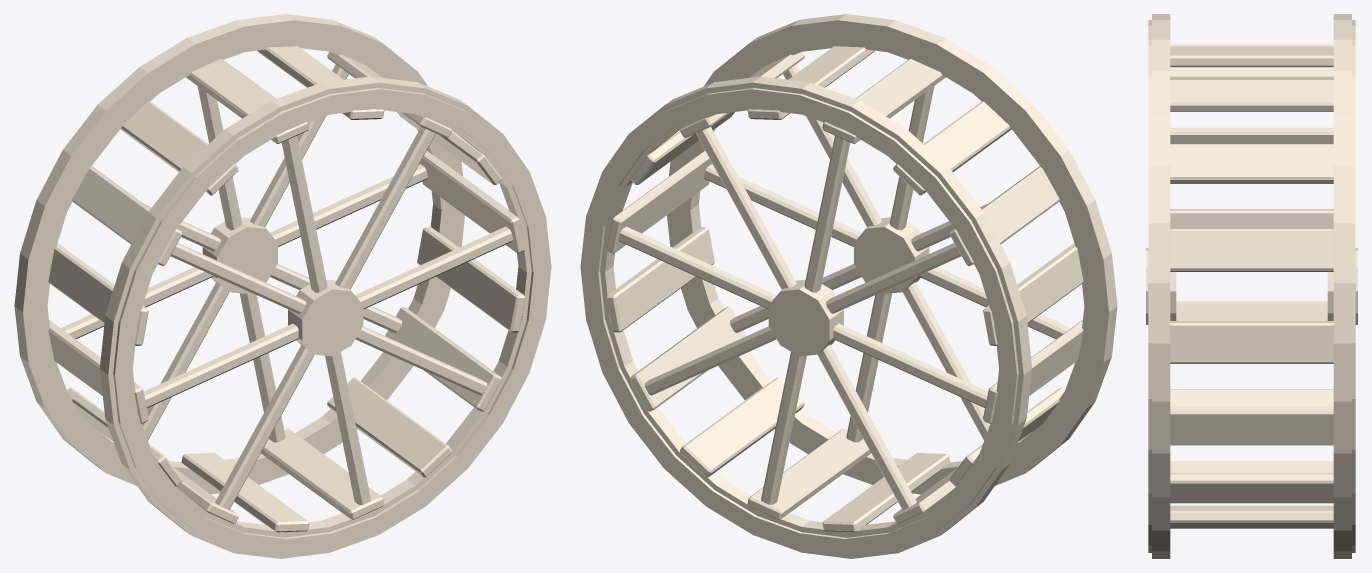
The model's file is SM_VK_Prop_TreadwheelCrane_Wheel.fbx.
3 views of the same model, side by side, from view 1: azimuth 30°, elevation 25°; view 2: azimuth 150°, elevation 25°; view 3: azimuth 270°, elevation 25° (orthographic). The views are drawn at different scales.
Parts seen in each view (by area): view 1: SM_VK_Prop_TreadwheelCrane_Wheel.001; view 2: SM_VK_Prop_TreadwheelCrane_Wheel.001; view 3: SM_VK_Prop_TreadwheelCrane_Wheel.001.
Part boxes in pixels (x1,y1,x2,y2): SM_VK_Prop_TreadwheelCrane_Wheel.001: (14,14,551,558); SM_VK_Prop_TreadwheelCrane_Wheel.001: (580,14,1117,558); SM_VK_Prop_TreadwheelCrane_Wheel.001: (1146,14,1357,558).
Bounding box in the file's own units: 3.6 × 3.6 × 1.4.
